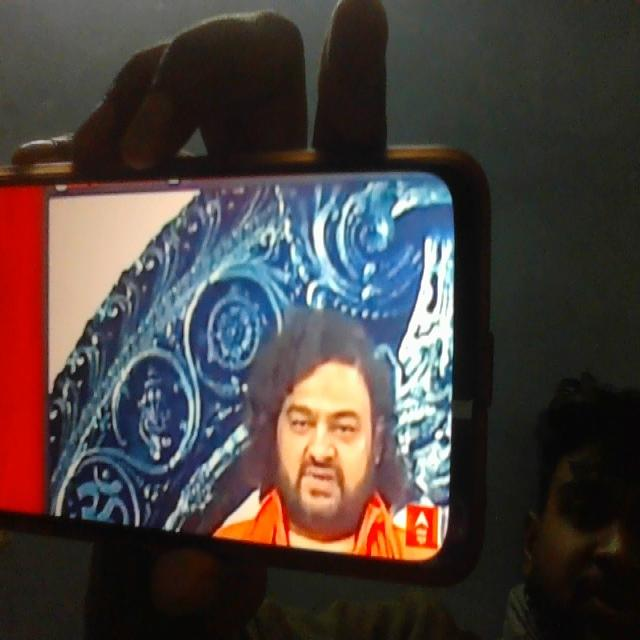fake: (267, 305, 387, 532)
